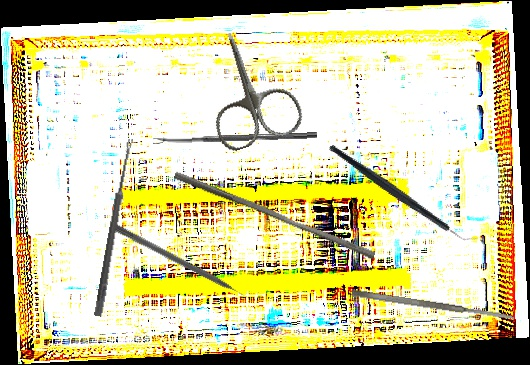Chopper: (327, 106, 480, 281)
Iris Scissors: (188, 19, 308, 155)
Pusher: (170, 170, 379, 261), (108, 221, 256, 306)
Spatula Surgical: (351, 288, 515, 323)
Surgical Spoon: (93, 138, 135, 317), (152, 131, 318, 144)
